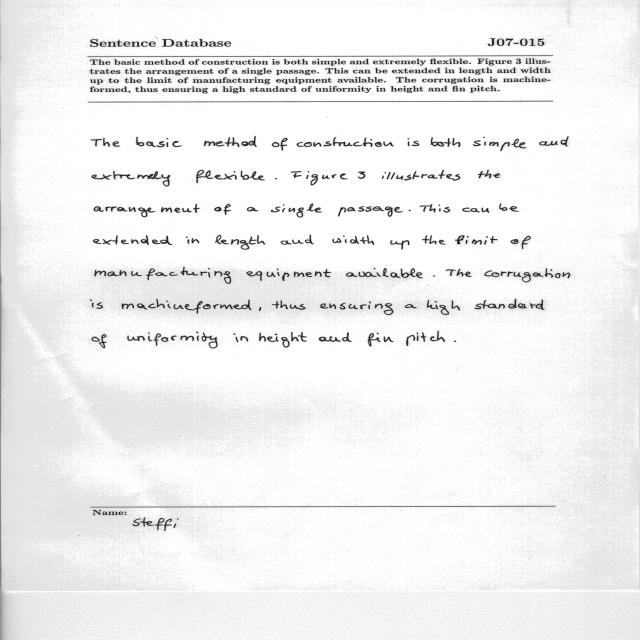word: (95, 267, 231, 284), (122, 299, 252, 314), (127, 332, 218, 349), (94, 204, 200, 217), (485, 269, 571, 283), (92, 171, 170, 186), (246, 269, 331, 281), (297, 137, 394, 147), (320, 302, 393, 315), (196, 170, 265, 183), (382, 170, 460, 181), (291, 171, 347, 186), (94, 235, 172, 245), (346, 268, 423, 278), (475, 299, 545, 310), (259, 332, 307, 348), (271, 203, 322, 218), (215, 235, 265, 250), (473, 137, 526, 151), (338, 206, 403, 217), (406, 331, 445, 346), (204, 136, 257, 147), (427, 300, 460, 315), (136, 137, 182, 147), (455, 235, 498, 245), (333, 235, 375, 245), (368, 333, 393, 347), (281, 235, 314, 245), (319, 332, 352, 342), (272, 301, 306, 310), (431, 137, 460, 147), (540, 136, 569, 146), (420, 204, 450, 213), (91, 138, 120, 147), (511, 236, 531, 249), (390, 240, 410, 250), (446, 269, 471, 277), (478, 170, 500, 179), (92, 334, 106, 348), (272, 138, 287, 151), (214, 204, 231, 215), (500, 203, 519, 212), (463, 208, 490, 213), (233, 333, 248, 342), (90, 299, 103, 309), (422, 236, 436, 245), (186, 237, 199, 244), (408, 138, 419, 146), (358, 171, 365, 179), (405, 304, 417, 308), (247, 207, 258, 211), (439, 240, 445, 245), (259, 307, 261, 311), (408, 210, 411, 211), (275, 178, 277, 179), (433, 276, 435, 277), (454, 341, 456, 342)
